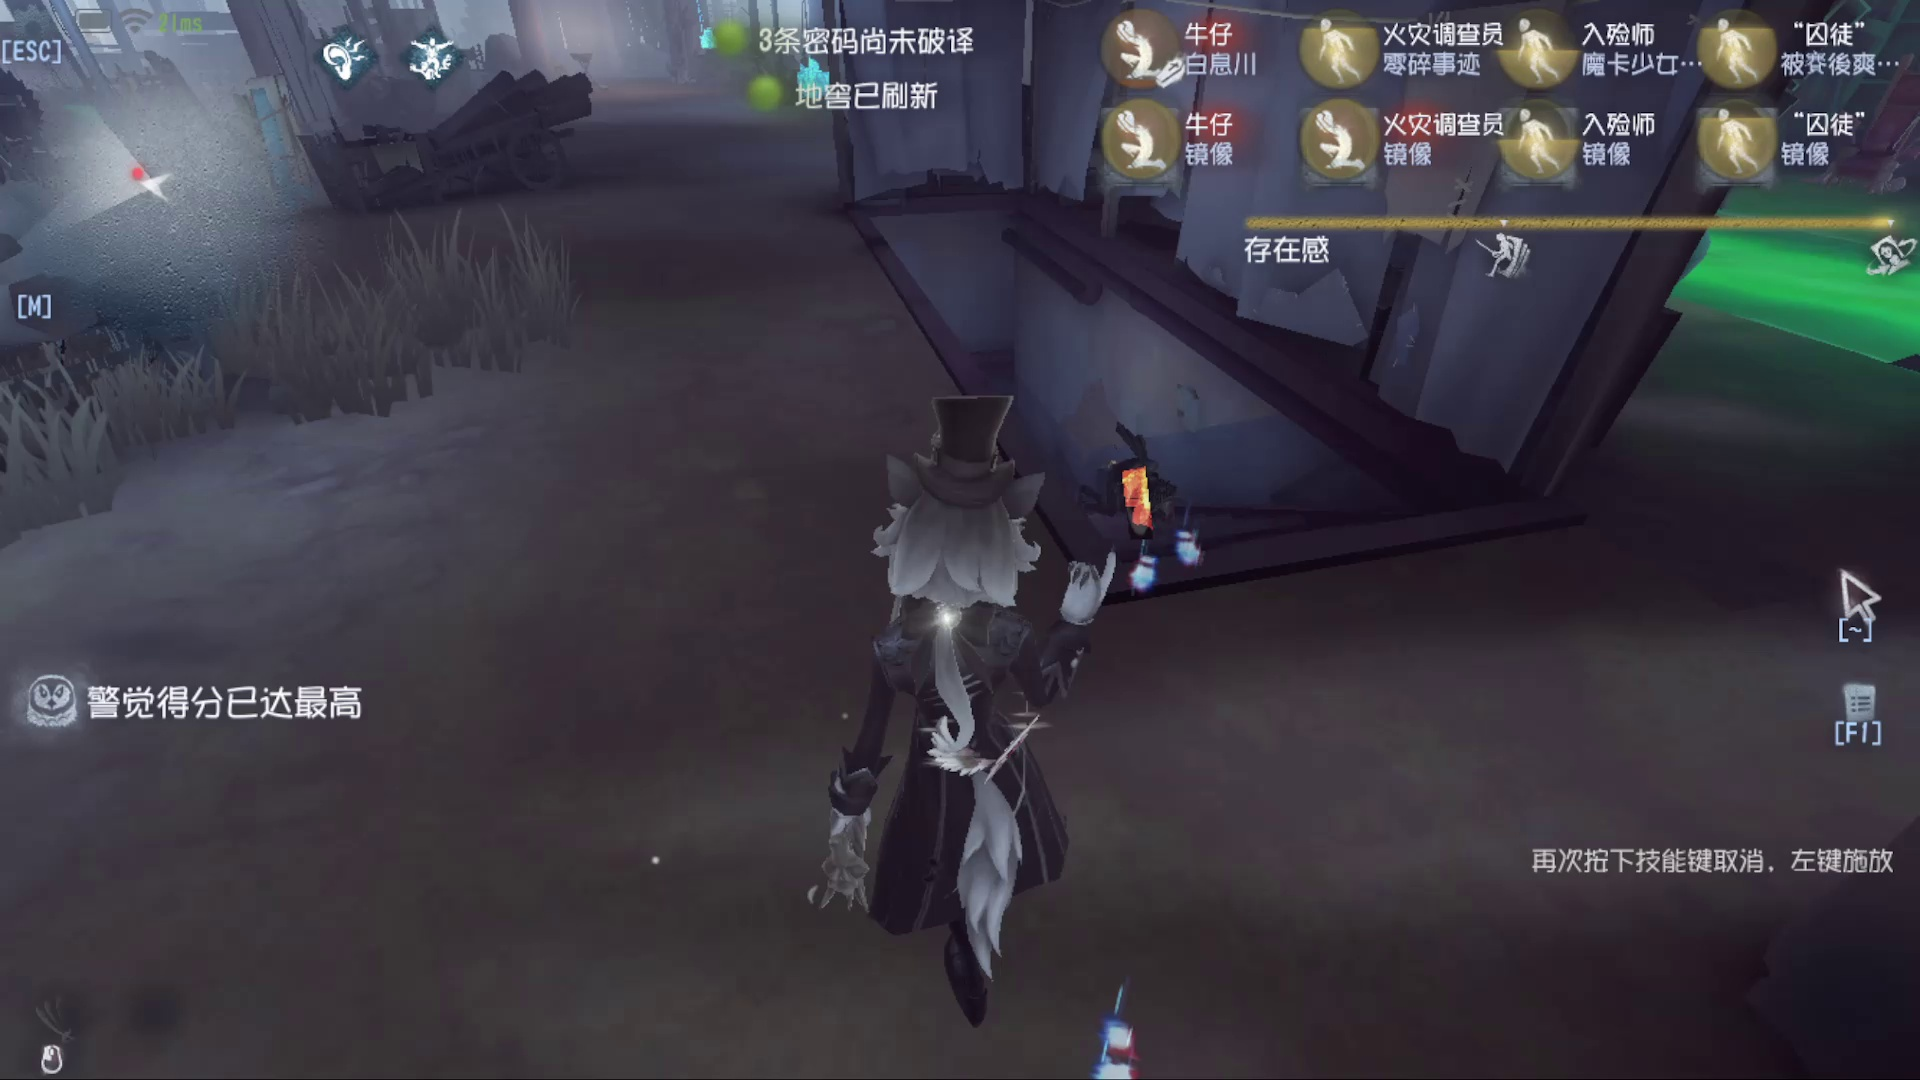求生者: (1048, 406, 1187, 538)
